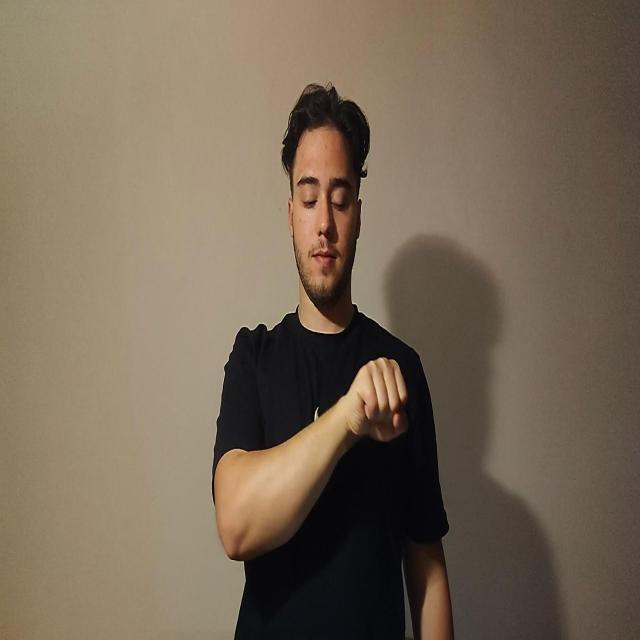yes: (345, 355, 409, 444)
